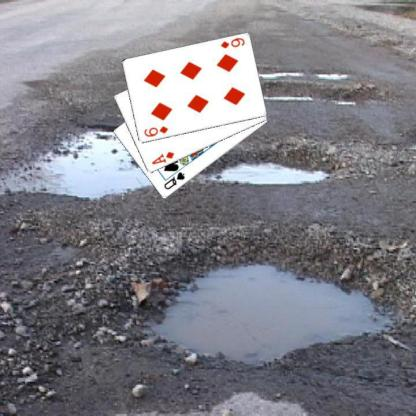6D: (218, 35, 245, 50), (142, 124, 169, 138)
AD: (149, 149, 175, 166)
QS: (161, 170, 186, 192)
